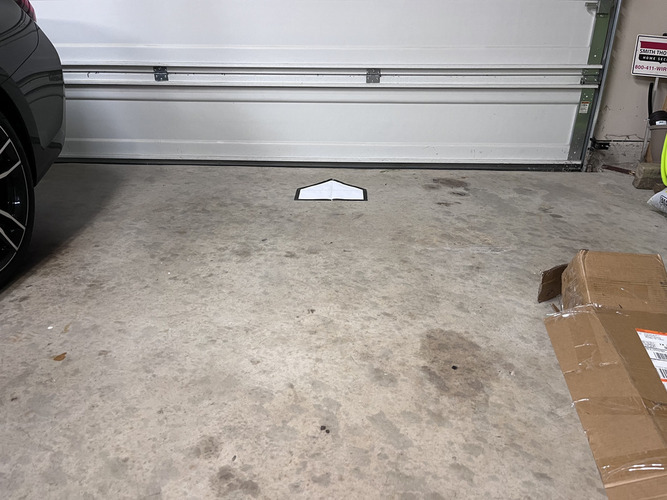homeplate: (294, 177, 367, 201)
